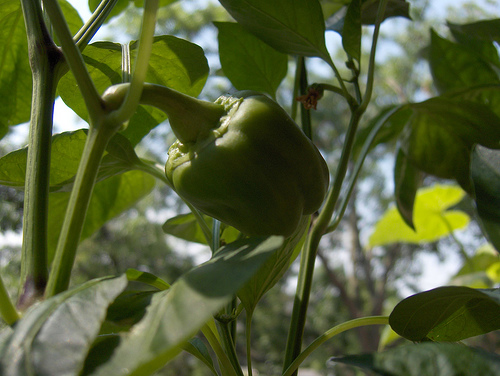capsicum: (165, 90, 330, 238)
